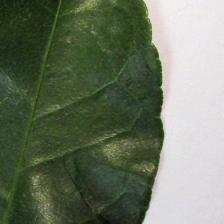healthy: (1, 0, 165, 224)
